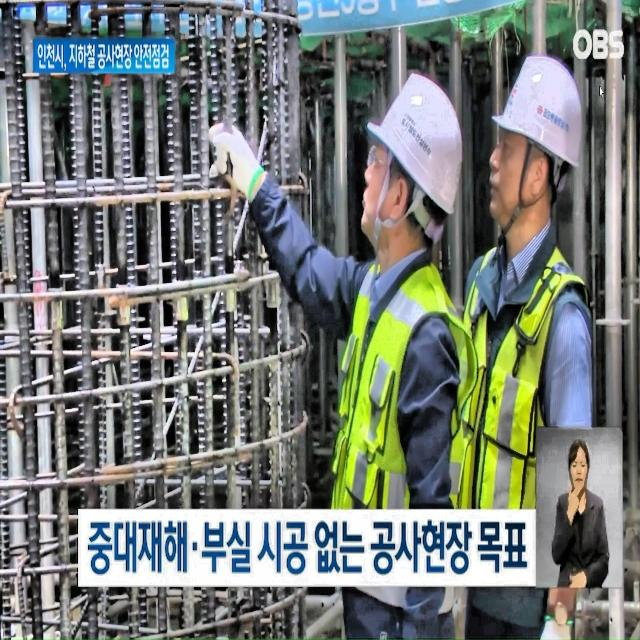safety_helmet: (368, 57, 473, 220), (484, 30, 604, 172)
safety_jacket: (334, 270, 486, 637), (472, 248, 600, 632)
